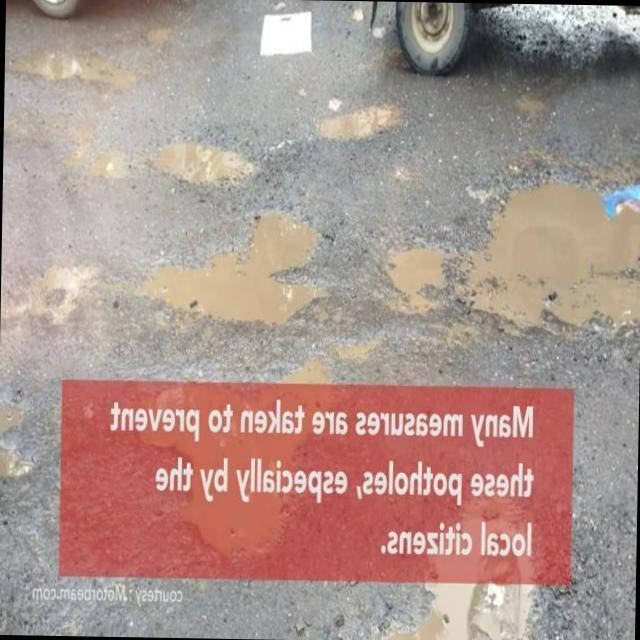Burst: (388, 177, 631, 331), (146, 210, 335, 331), (151, 145, 253, 189)
